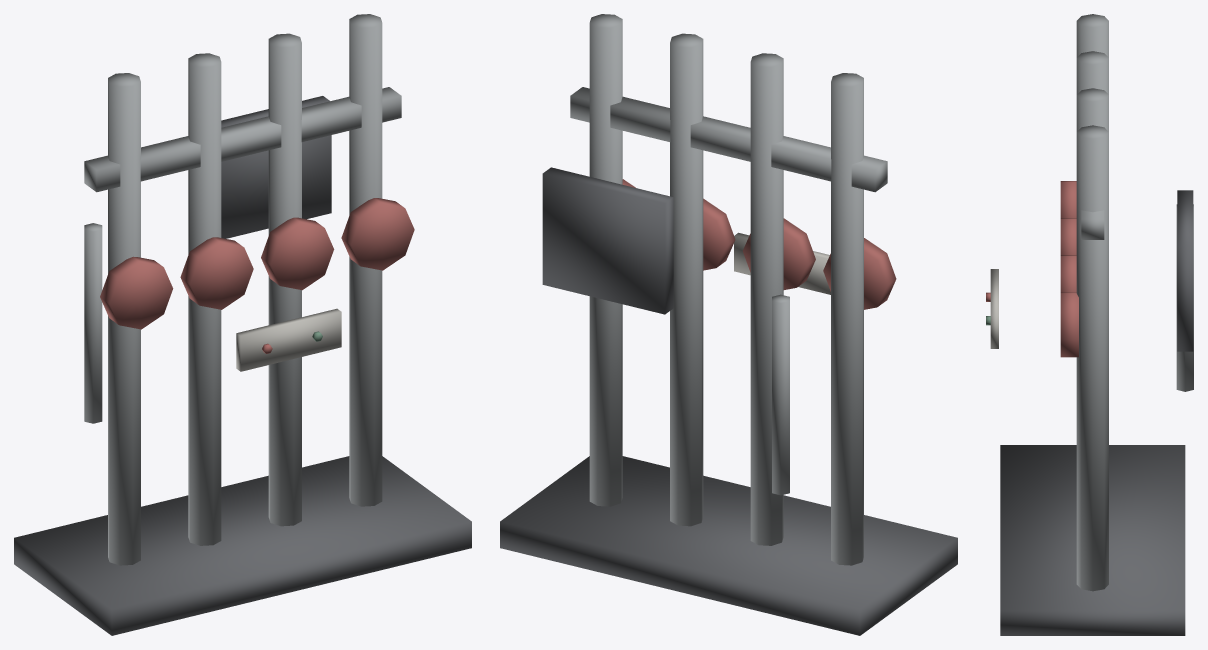
Rendered from steam_manifold__service.glb.
3 views of the same model, side by side, from view 1: azimuth 30°, elevation 25°; view 2: azimuth 150°, elevation 25°; view 3: azimuth 270°, elevation 25° (orthographic). The views are drawn at different scales.
Parts seen in each view (by area): view 1: world; view 2: world; view 3: world.
Boxes of the visible parts, x1,y1,x2,y2 form: world: [14, 14, 471, 635]; world: [500, 14, 957, 635]; world: [986, 14, 1193, 635].
Size of the model in its own units: 0.85 by 1.14 by 0.4494.
